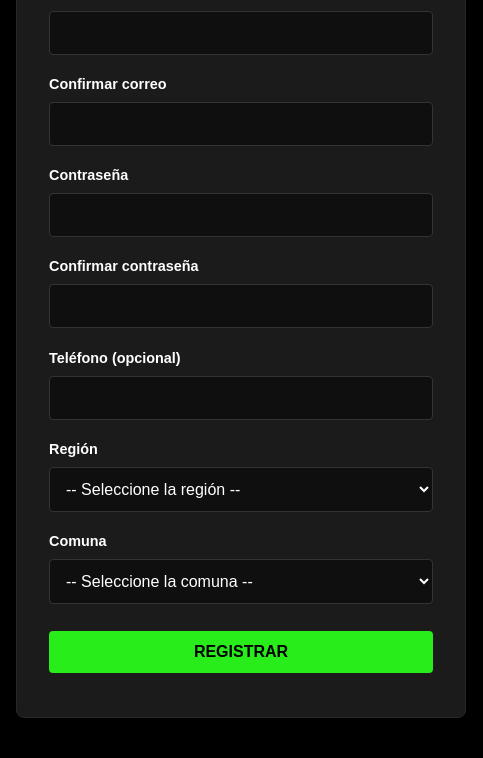
Registro › muestra errores si se envía el formulario vacío
(page scrolled)
Step 1. Click the button "Registrar" → [241, 652], box [49,631,433,673]
(page scrolled)
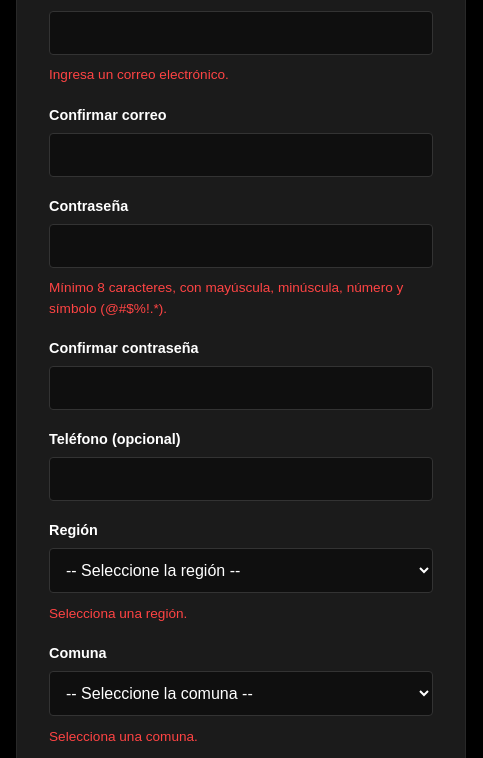
Result: the text "Ingresa un correo electrónico." is shown at [49,67,229,82]
Result: the text "Selecciona una región." is shown at [49,606,187,621]
